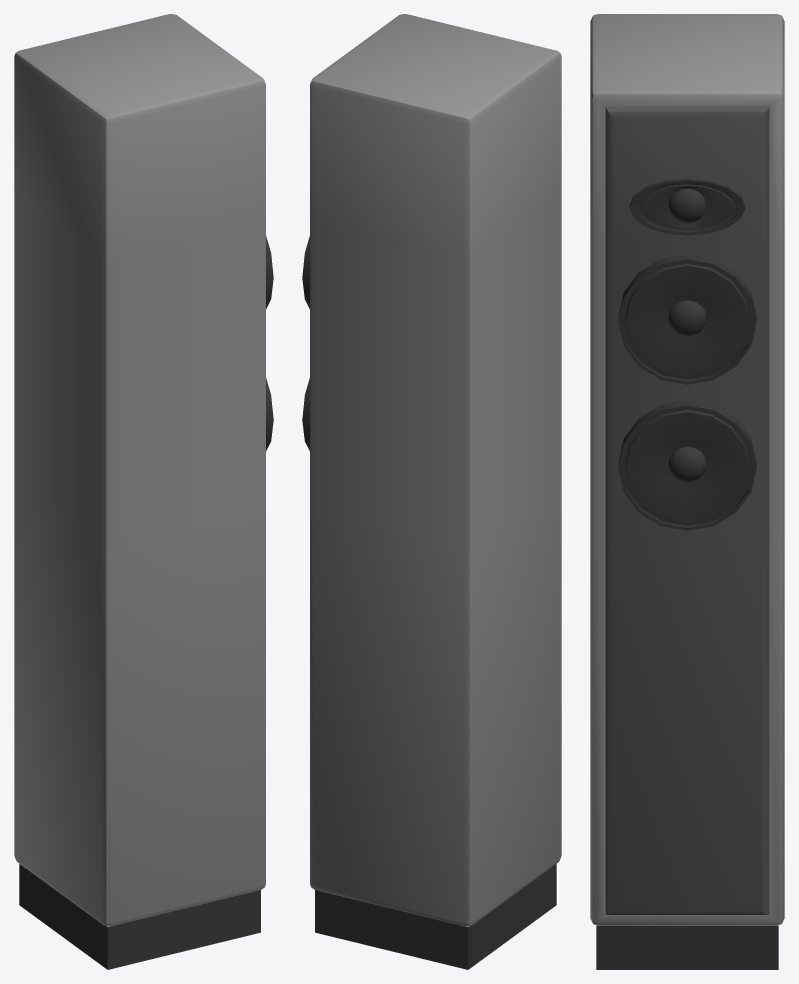
Rendered from Speakers_01.glb.
3 views of the same model, side by side, from view 1: azimuth 30°, elevation 25°; view 2: azimuth 150°, elevation 25°; view 3: azimuth 270°, elevation 25° (orthographic). The views are drawn at different scales.
Visible parts, largest first — view 1: Mesh_Speakers_01; view 2: Mesh_Speakers_01; view 3: Mesh_Speakers_01.
Boxes of the visible parts, box(x1,y1,x2,y2) form: Mesh_Speakers_01: box(14, 14, 273, 969); Mesh_Speakers_01: box(302, 14, 561, 969); Mesh_Speakers_01: box(590, 14, 784, 969).
Size of the model in its own units: 0.2259 by 1 by 0.2.
1 material, 1 textured.
